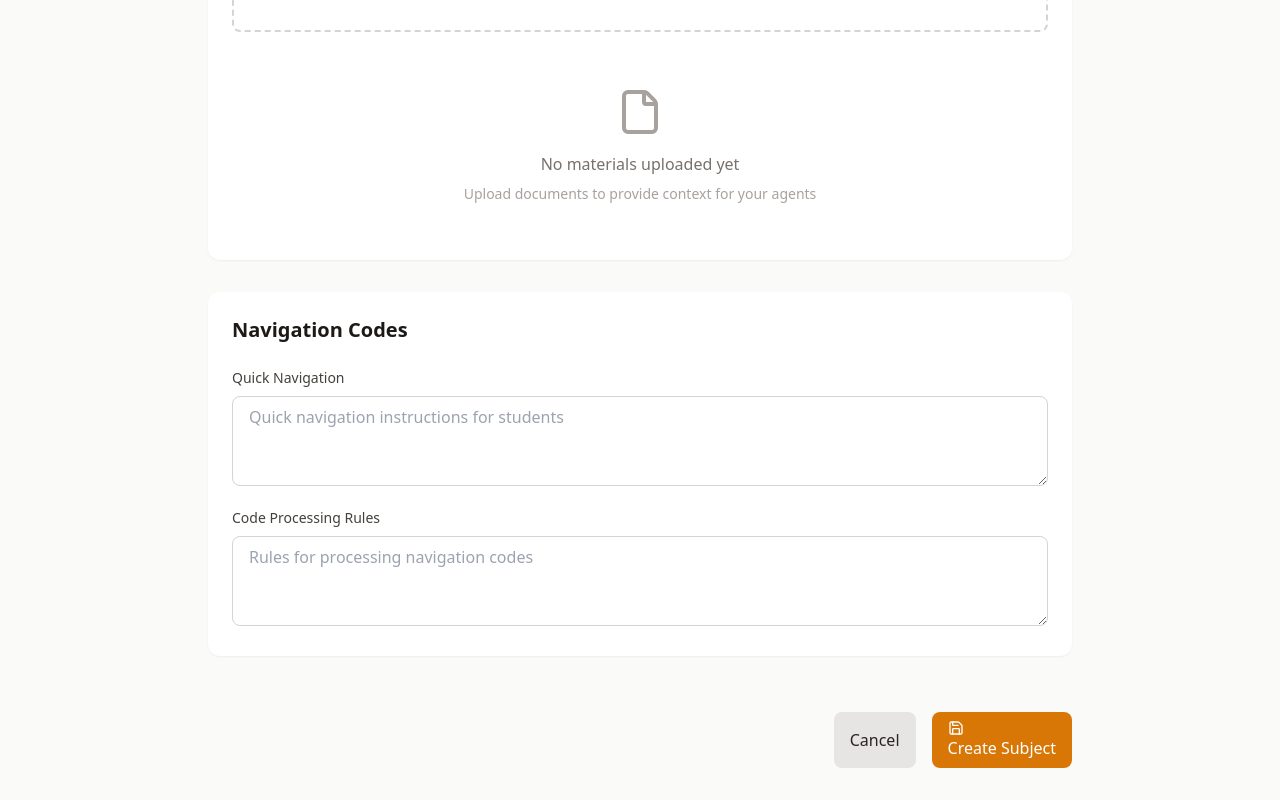
Test: SubjectEditMode › validates required fields
The image size is (1280, 800).
(page scrolled)
What coordinates should you click on to do the following:
click the button "Create Subject"
I would click on:
 (1002, 740)
Its box is [932,712,1072,768].
(page scrolled)
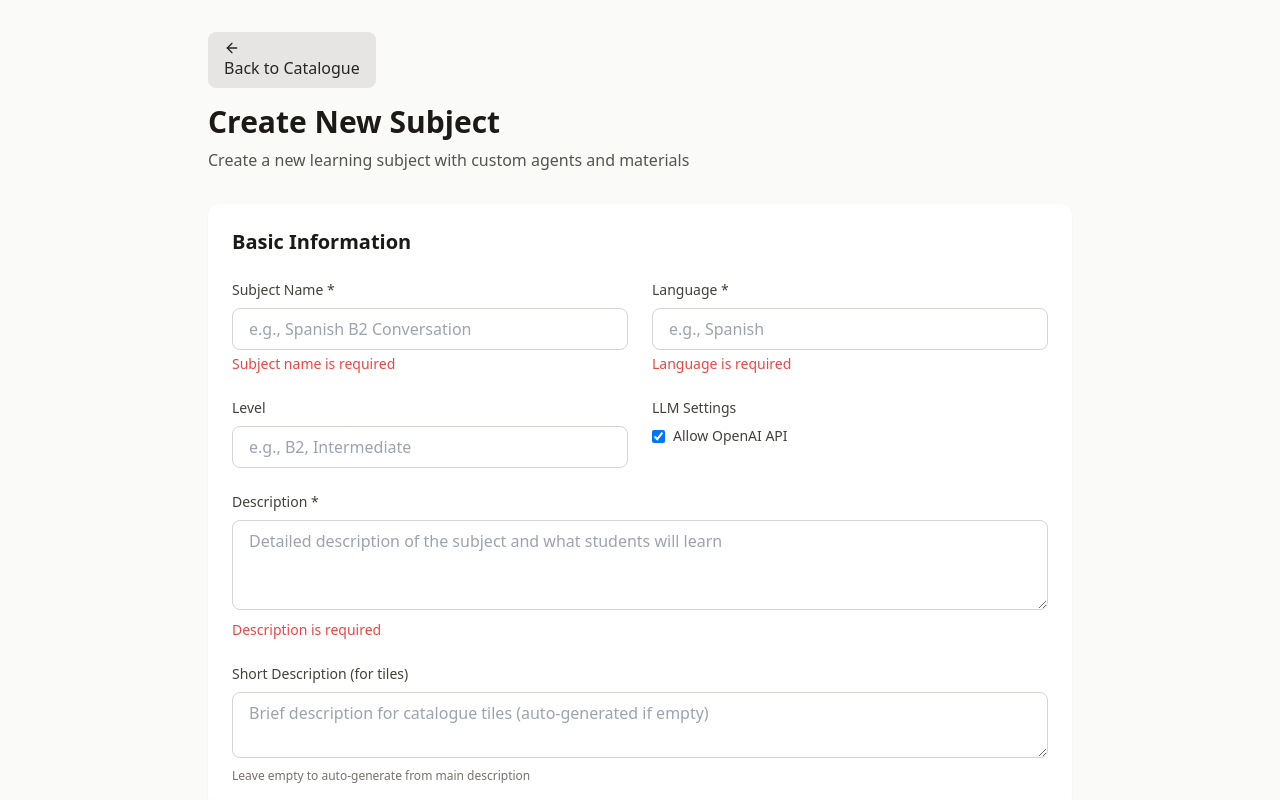
Expected: the text "Subject name is required" is shown, [232,354,395,373]
Expected: the text "Description is required" is shown, [232,620,381,639]
Expected: the text "Language is required" is shown, [652,354,791,373]
